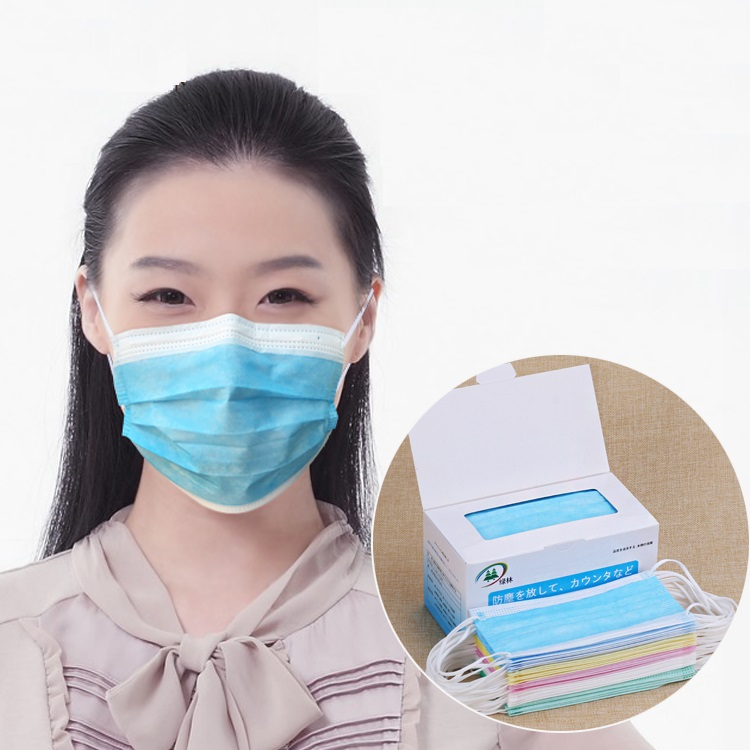face_mask: (107, 163, 353, 506)
